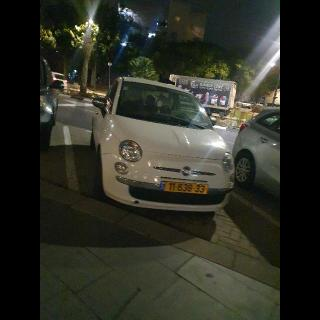LicensePlate: (164, 181, 208, 195)
